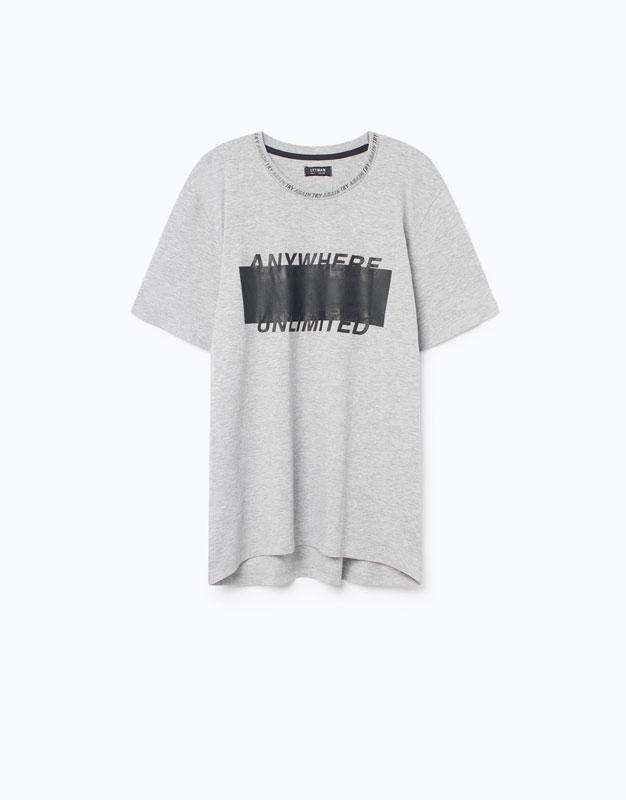teeshirt: (125, 122, 507, 618)
